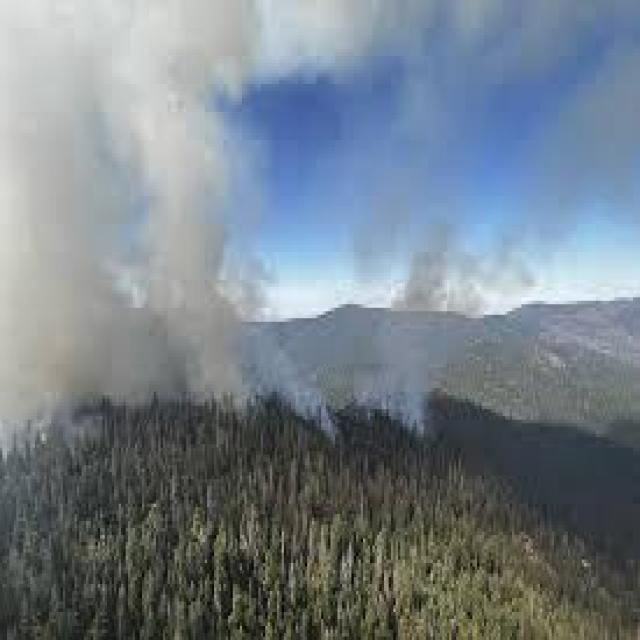Smoke: (0, 0, 347, 477), (0, 0, 313, 408), (0, 252, 453, 438), (0, 2, 150, 447), (132, 0, 258, 432), (372, 227, 466, 461)
